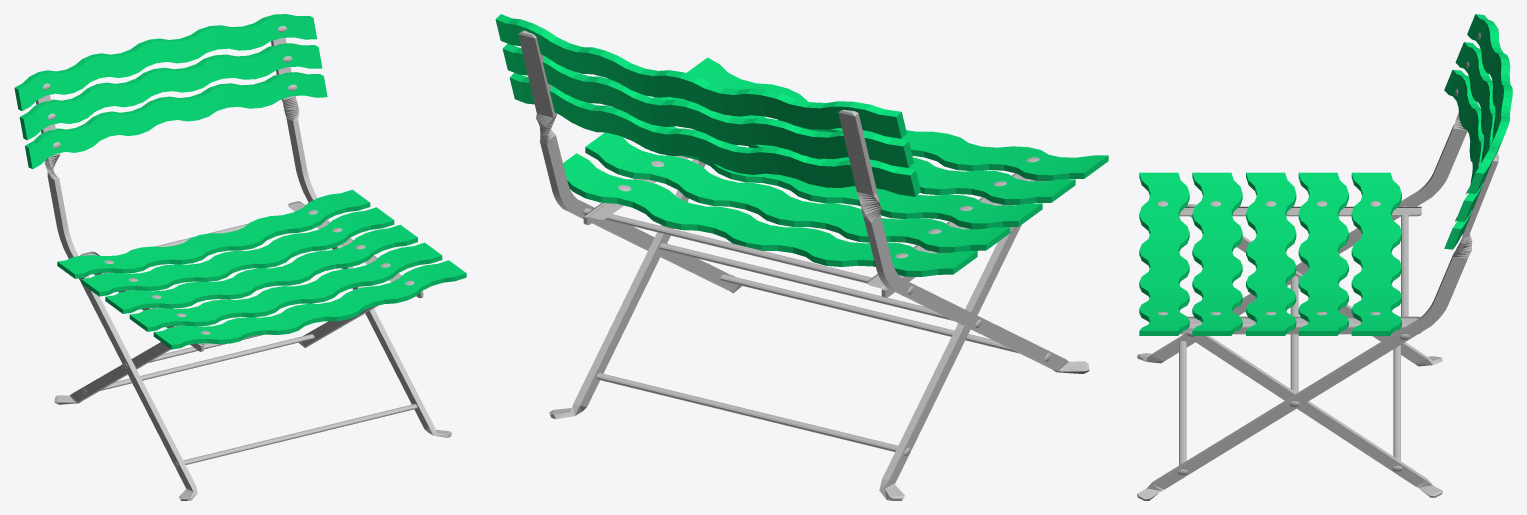
Rendered from sh-kl-cafe-chair.glb.
The picture shows the model from 3 angles, left to right: view 1: azimuth 30°, elevation 25°; view 2: azimuth 150°, elevation 25°; view 3: azimuth 270°, elevation 25°; orthographic projection. The views are drawn at different scales.
Visible parts, largest first — view 1: Cafe_chair_Cafe_chair_Green_chair, Cafe_chair_Cafe_chair_Aluminum; view 2: Cafe_chair_Cafe_chair_Green_chair, Cafe_chair_Cafe_chair_Aluminum; view 3: Cafe_chair_Cafe_chair_Green_chair, Cafe_chair_Cafe_chair_Aluminum.
Boxes of the visible parts, x1=… form: Cafe_chair_Cafe_chair_Green_chair: x1=14, y1=14, x2=466, y2=349; Cafe_chair_Cafe_chair_Aluminum: x1=36, y1=26, x2=451, y2=500; Cafe_chair_Cafe_chair_Green_chair: x1=495, y1=14, x2=1108, y2=276; Cafe_chair_Cafe_chair_Aluminum: x1=518, y1=30, x2=1089, y2=500; Cafe_chair_Cafe_chair_Green_chair: x1=1139, y1=14, x2=1512, y2=335; Cafe_chair_Cafe_chair_Aluminum: x1=1137, y1=28, x2=1498, y2=500.
Bounding box in the file's own units: 1 × 1 × 1.
